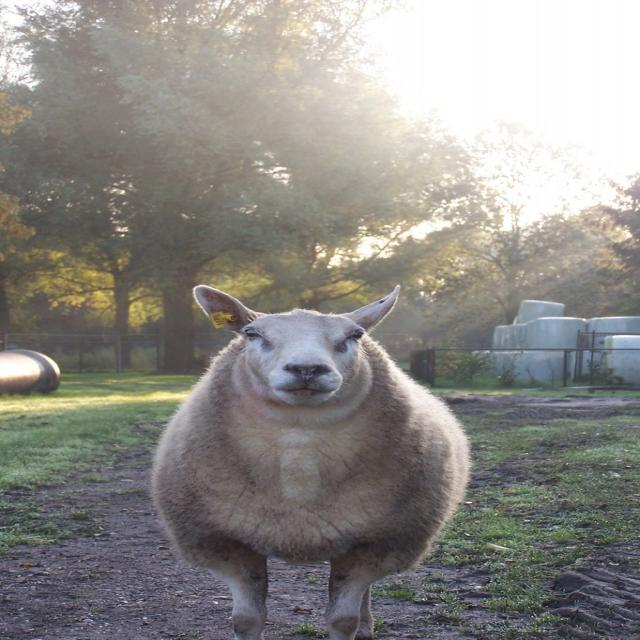Sheep: (152, 286, 476, 640)
